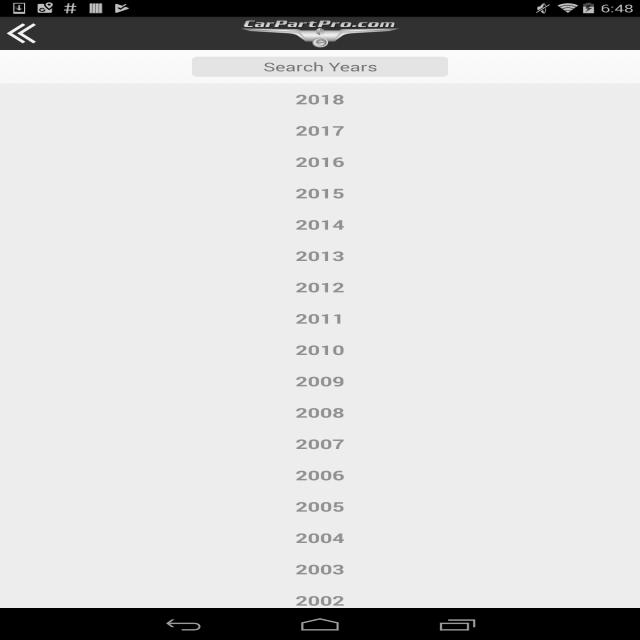Button: (185, 52, 458, 81)
ImageButton: (3, 21, 46, 44)
ImageView: (240, 26, 400, 43)
TextView: (284, 399, 367, 422), (286, 243, 351, 264), (294, 556, 349, 577), (288, 156, 354, 170)
